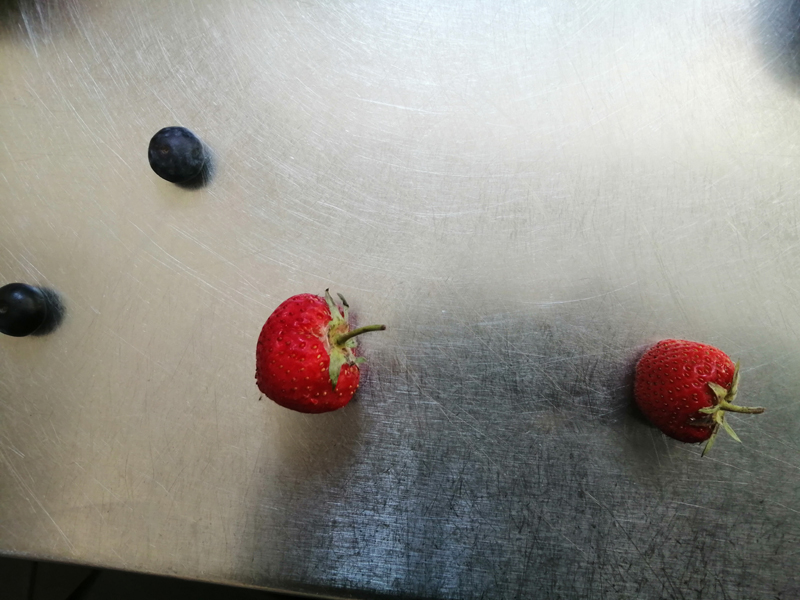blueberry: (127, 121, 230, 198)
strawberry: (246, 288, 382, 416), (631, 330, 770, 455)
